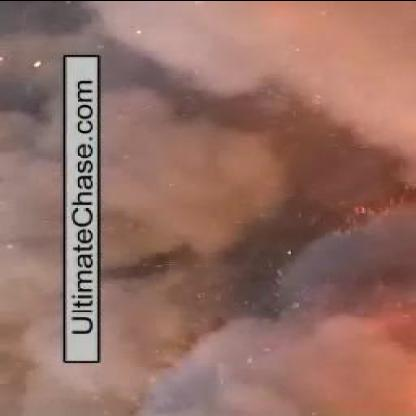-: (106, 20, 370, 402), (0, 79, 62, 351)
